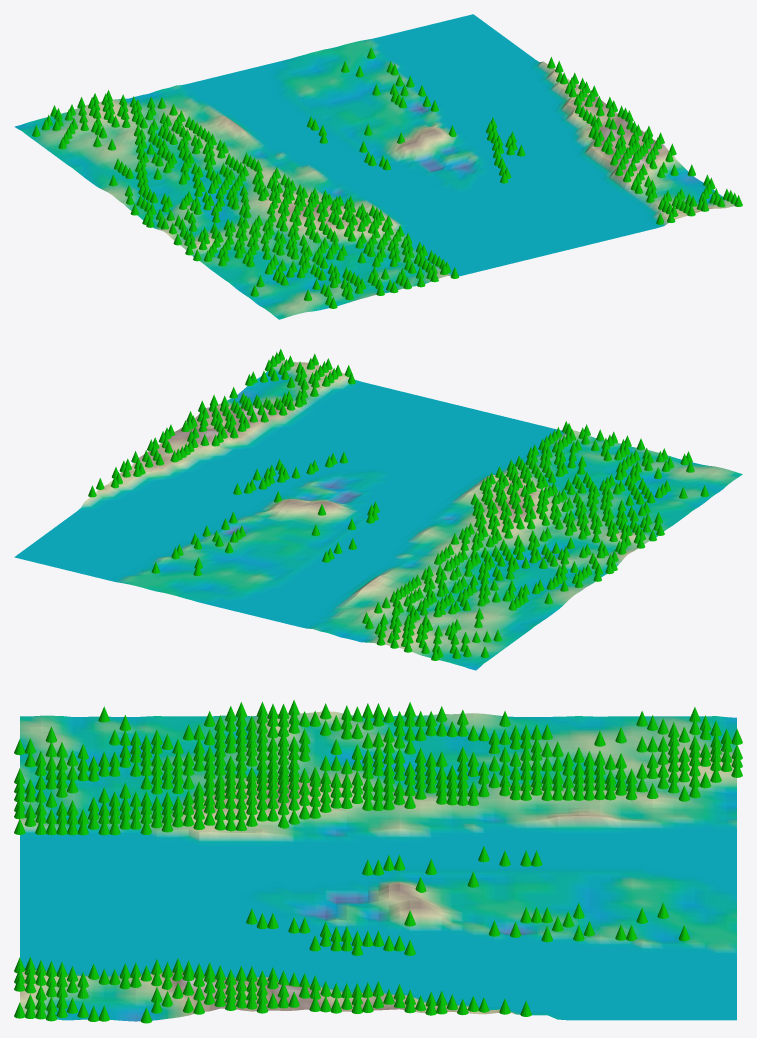
File: 002068_with_tree.glb
The picture shows the model from 3 angles, top to bottom: view 1: azimuth 30°, elevation 25°; view 2: azimuth 150°, elevation 25°; view 3: azimuth 270°, elevation 25°; orthographic projection. The views are drawn at different scales.
Parts seen in each view (by area): view 1: terrain, trees; view 2: terrain, trees; view 3: terrain, trees.
Part boxes in pixels (<box>): terrain: <box>14,14,734,319</box>; trees: <box>32,47,742,308</box>; terrain: <box>14,360,742,670</box>; trees: <box>88,348,708,660</box>; terrain: <box>20,711,736,1021</box>; trees: <box>14,700,742,1023</box>.
Bounding box in the file's own units: 0.0186 × 0.000907 × 0.0186.
